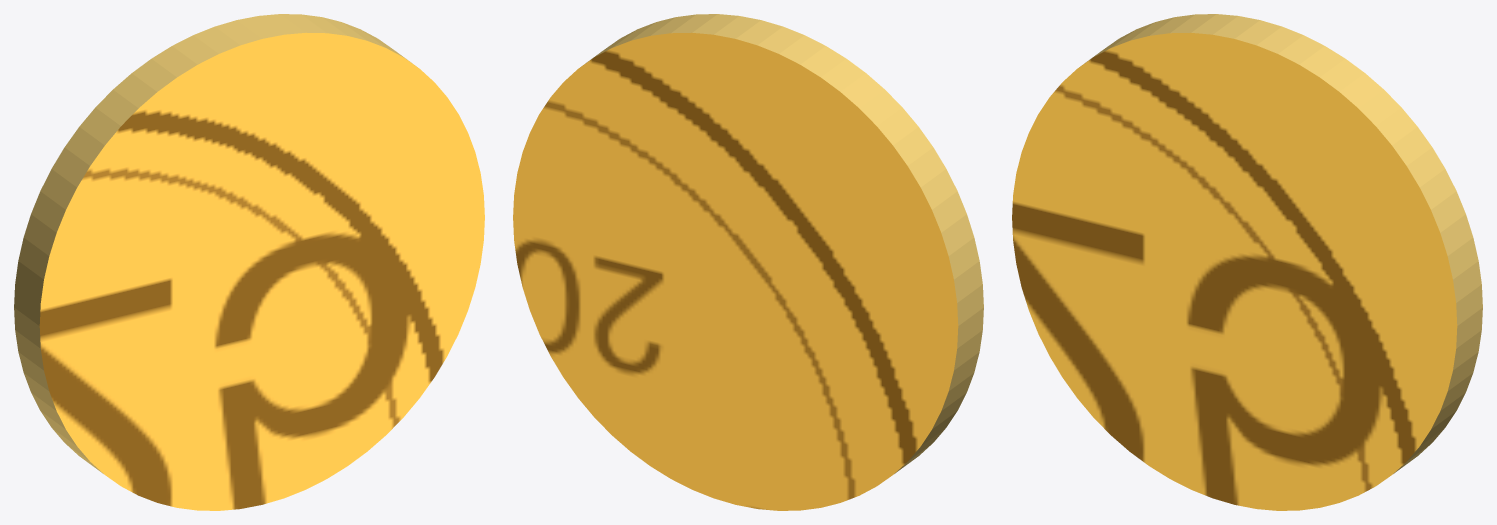
Rendered from coin.glb.
3 views of the same model, side by side, from view 1: azimuth 30°, elevation 25°; view 2: azimuth 150°, elevation 25°; view 3: azimuth 330°, elevation 25° (orthographic).
Visible parts, largest first — view 1: Moeda; view 2: Moeda; view 3: Moeda.
Boxes of the visible parts, x1=… form: Moeda: x1=14, y1=14, x2=484, y2=510; Moeda: x1=513, y1=14, x2=983, y2=510; Moeda: x1=1012, y1=14, x2=1482, y2=510.
Size of the model in its own units: 0.6 by 0.6 by 0.06.
3 materials, 2 textured.
